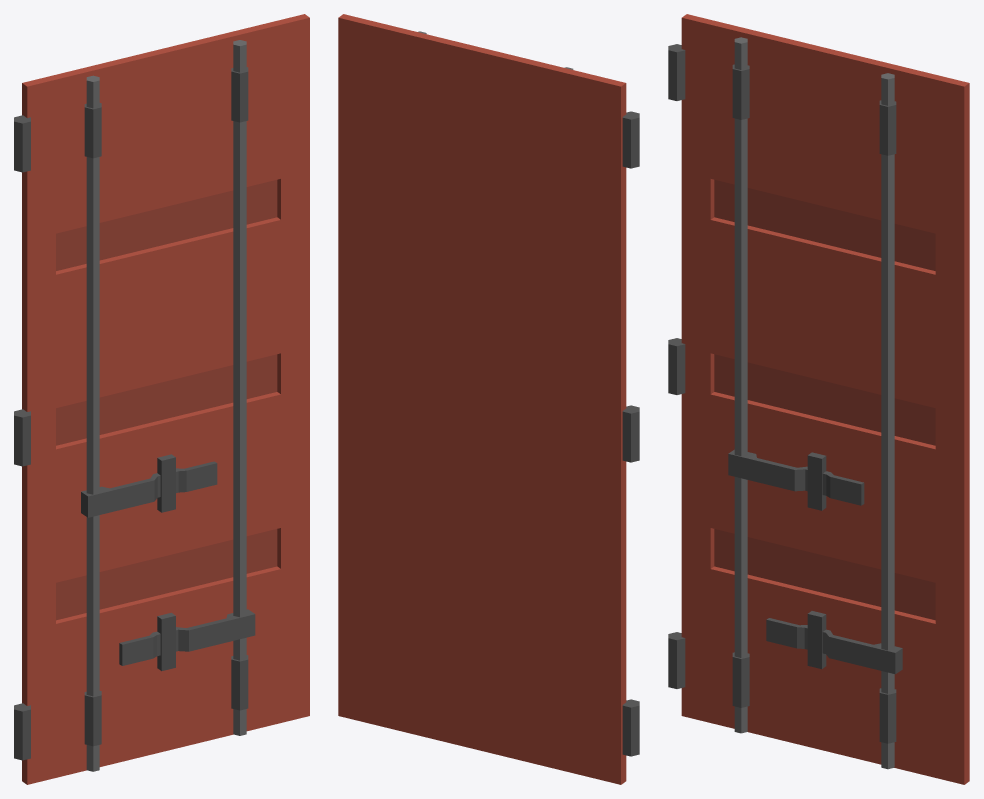
File: ShippingContainer_Door1_L.fbx
3 renders of one model, left to right at view 1: azimuth 30°, elevation 25°; view 2: azimuth 150°, elevation 25°; view 3: azimuth 330°, elevation 25°, orthographic.
Parts seen in each view (by area): view 1: ShippingContainer_Door1_L; view 2: ShippingContainer_Door1_L; view 3: ShippingContainer_Door1_L.
Part boxes in pixels (left/top/right/bottom): ShippingContainer_Door1_L: left=14, top=14, right=309, bottom=784; ShippingContainer_Door1_L: left=338, top=14, right=639, bottom=784; ShippingContainer_Door1_L: left=668, top=14, right=969, bottom=784.
Size of the model in its own units: 117 by 263 by 8.59.
